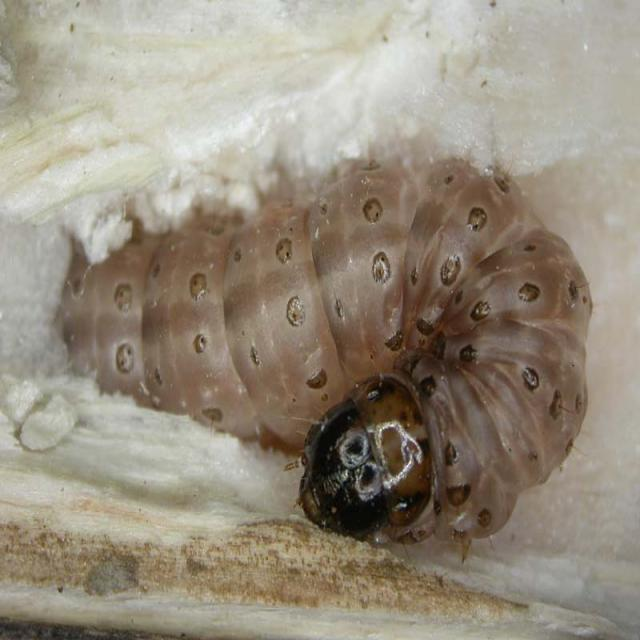cornborer-Larva-: (42, 138, 604, 570)
